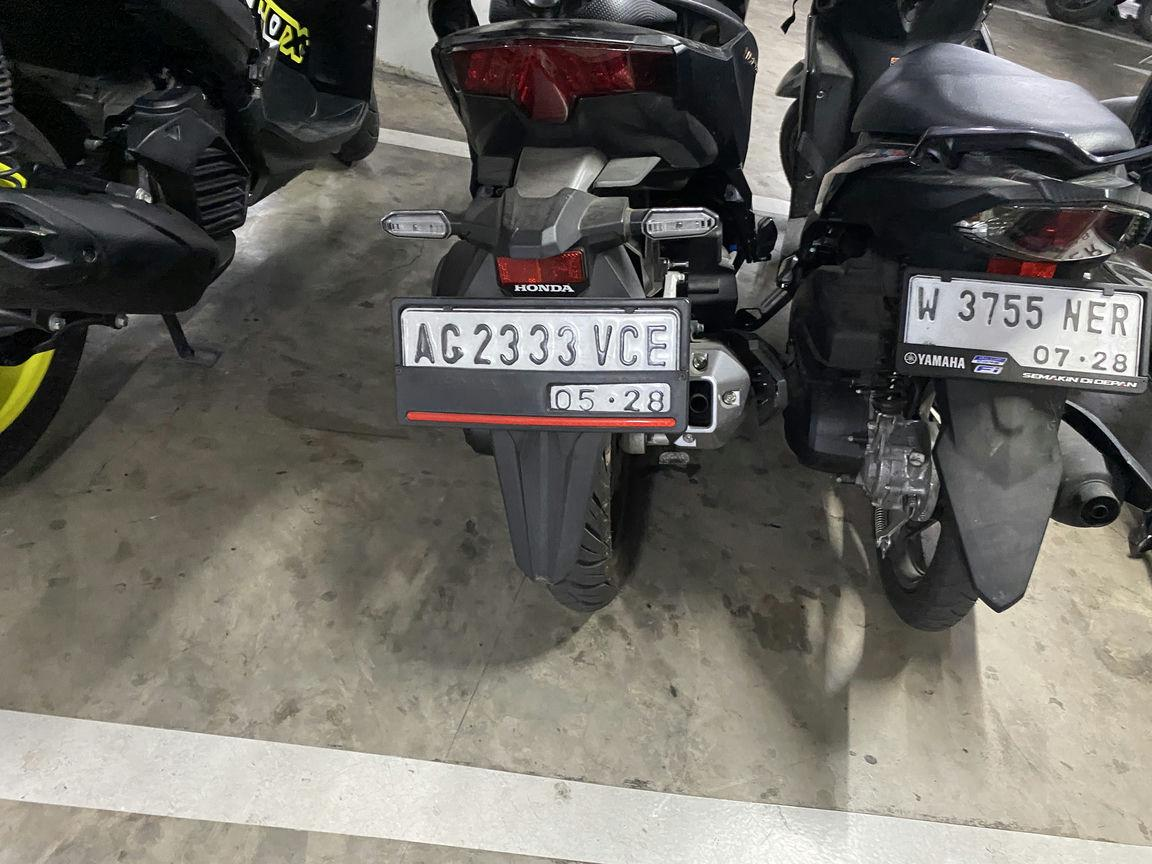plat: (394, 299, 688, 434), (896, 272, 1150, 394)
